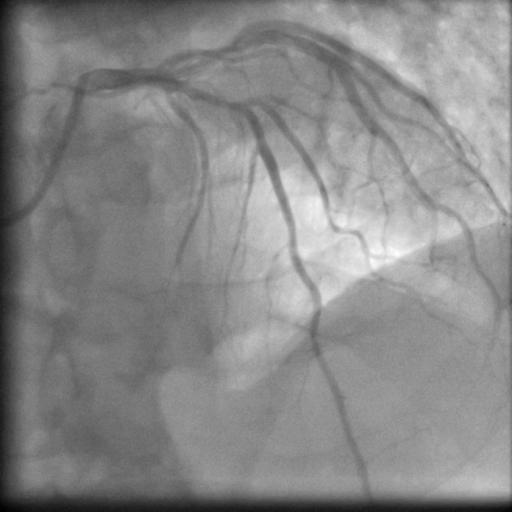Stenosis: (185, 80, 242, 109)
